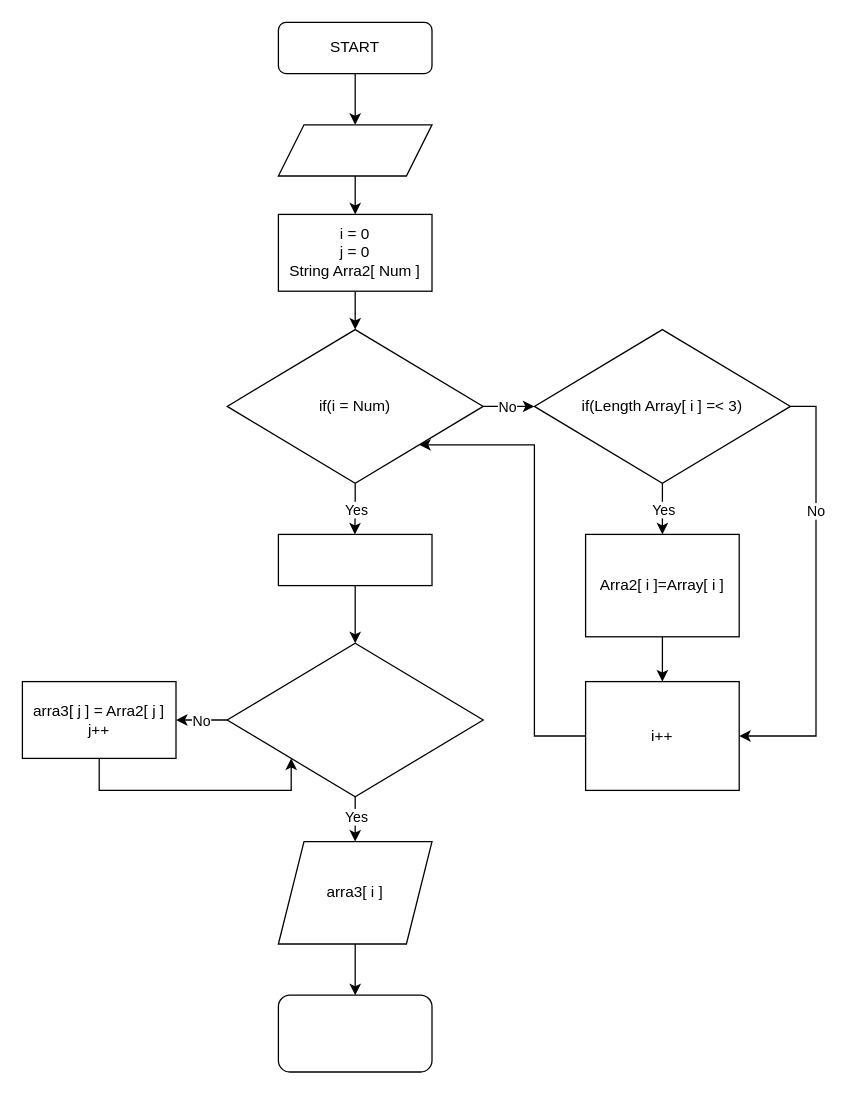
Image size: 849x1094. Some labels were removed from this diagram. The centre of each missing label's shape, as x and y in pixels:
"FINISH" belongs at point 354,1033.
"if(j = i)" belongs at point 354,719.
"string arra3[ i ]" belongs at point 354,559.
"String Array[Num]" belongs at point 354,150.
